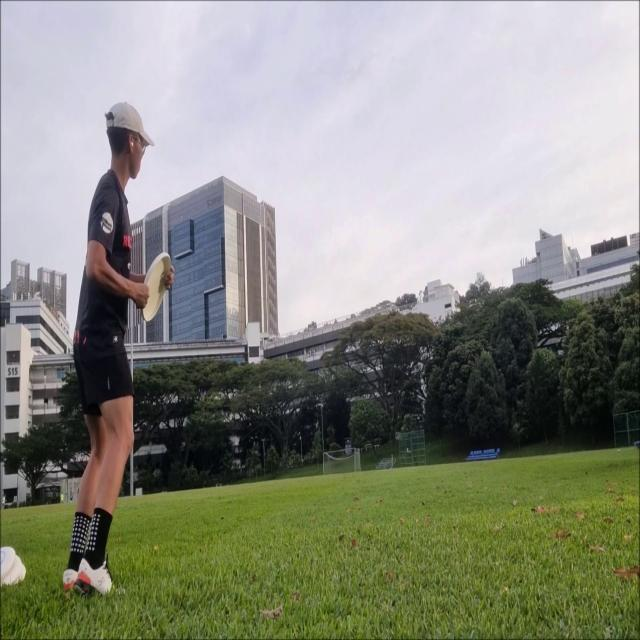disc: (141, 249, 172, 323)
